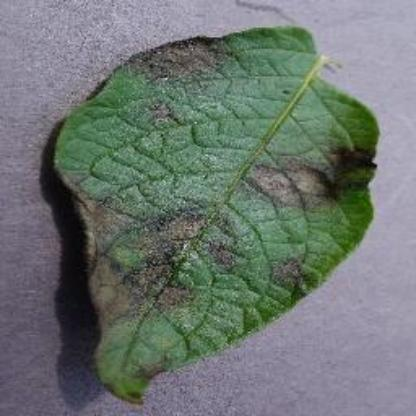Late-Blight: (15, 29, 387, 410)
